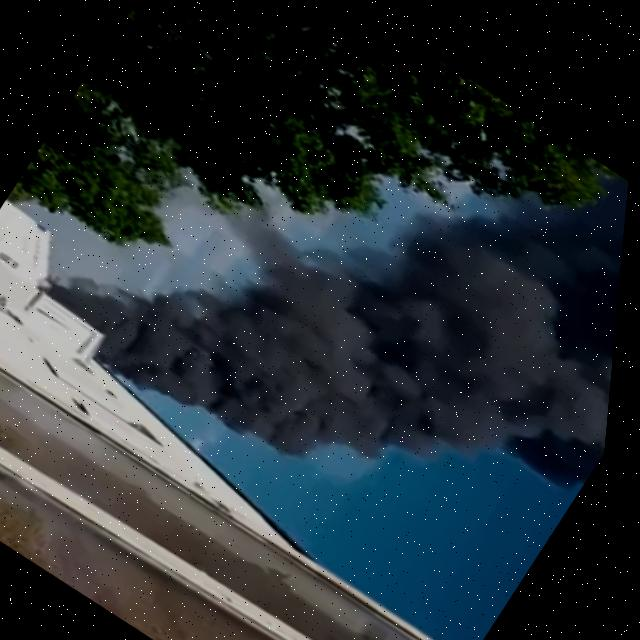Smoke: (23, 4, 640, 614)
